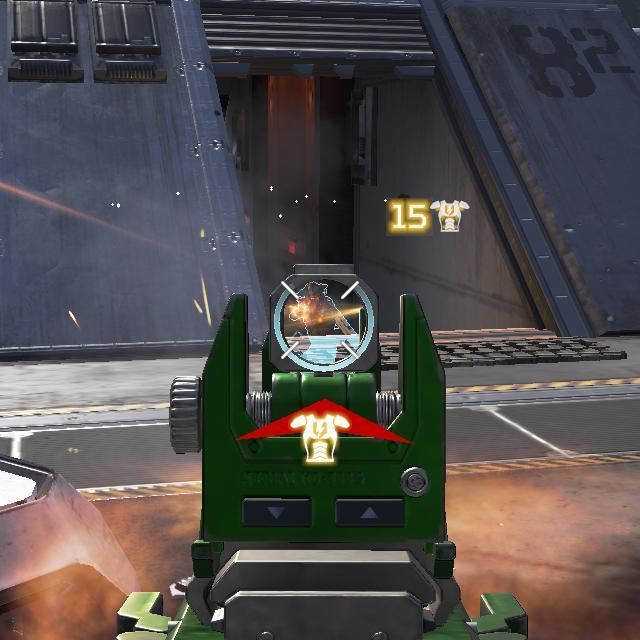avatar: (288, 279, 340, 338)
